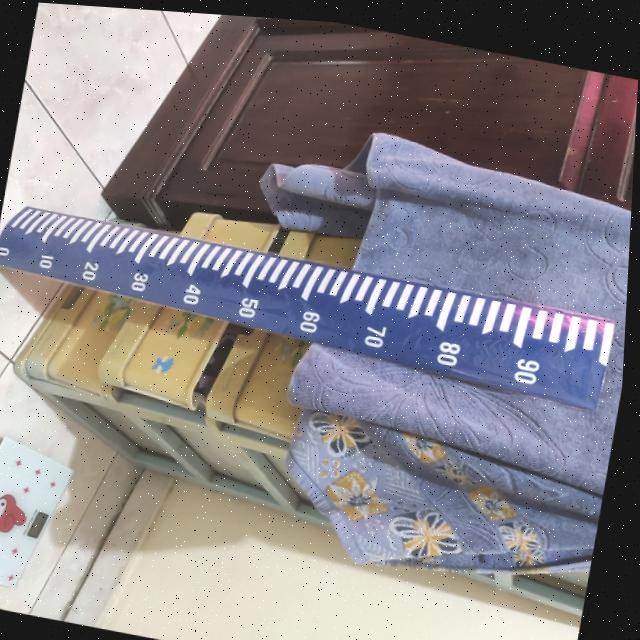water-meter: (0, 190, 626, 419)
